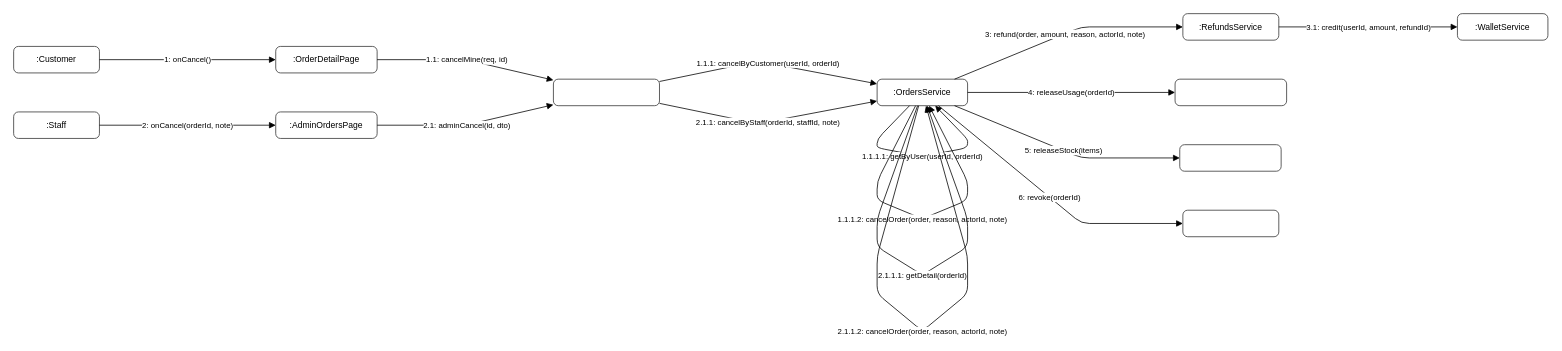
This 1562x351 diagram has some shape labels left out. Here are the shapes that lost their labels. From the top down, the box of each, then its label:
(553, 78, 659, 106): :OrdersController
(1174, 78, 1287, 106): :PromotionsService
(1179, 144, 1281, 171): :ProductsService
(1182, 209, 1279, 237): :LoyaltyService
